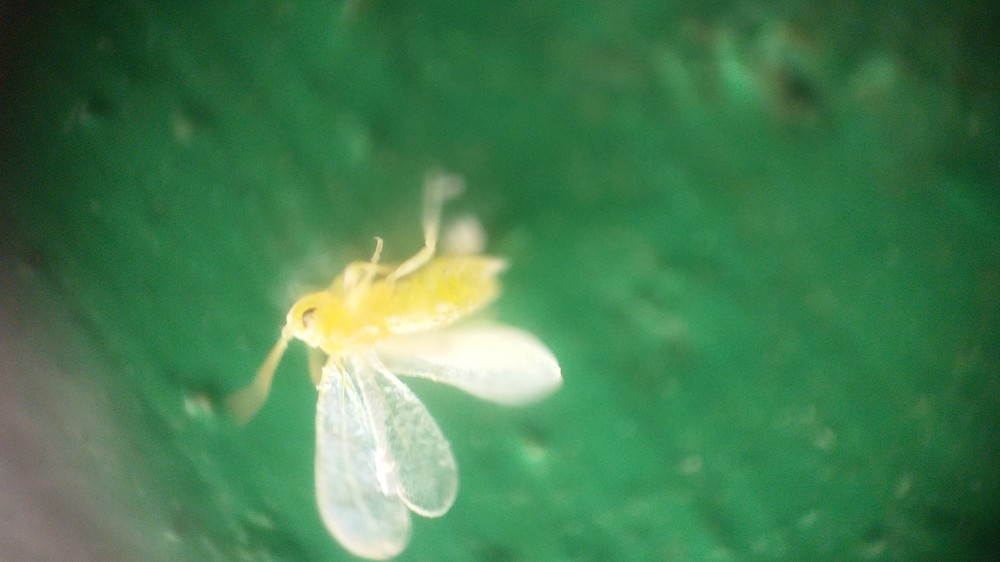Mosca Blanca: (229, 172, 585, 561)
